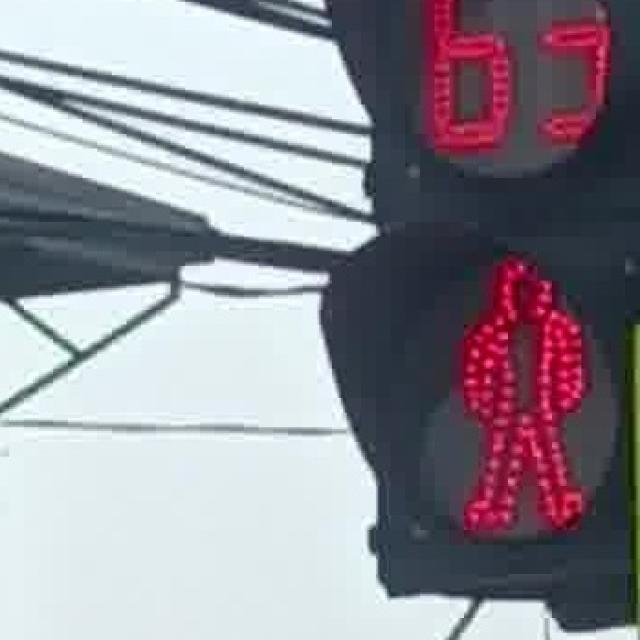red-crossing: (432, 242, 592, 539)
